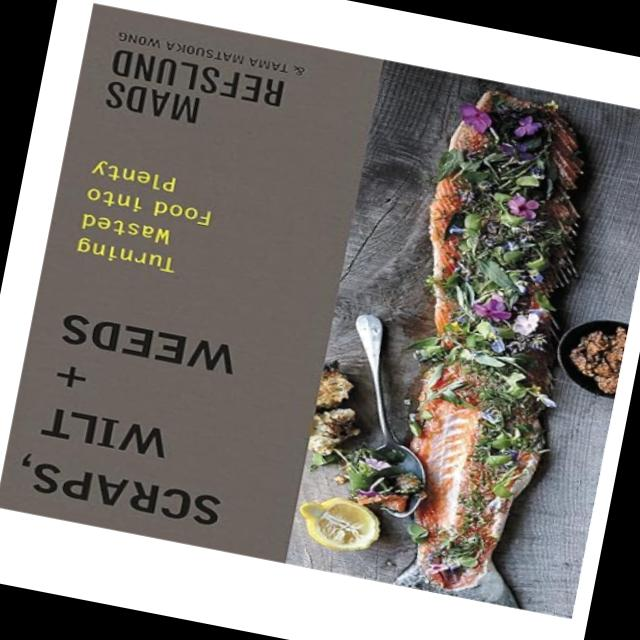titles-or-authors: (5, 300, 272, 538), (88, 42, 301, 148)
